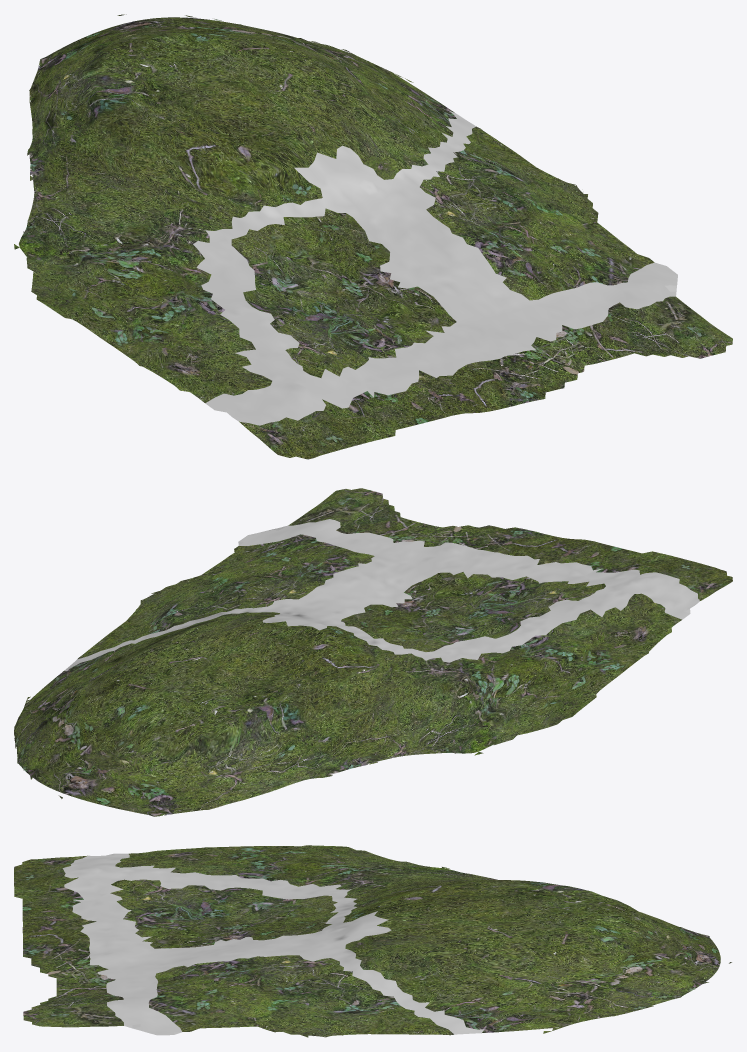
The model's file is Field6.fbx.
The picture shows the model from 3 angles, top to bottom: view 1: azimuth 30°, elevation 25°; view 2: azimuth 150°, elevation 25°; view 3: azimuth 270°, elevation 25°; orthographic projection. The views are drawn at different scales.
Visible parts, largest first — view 1: LV_Campagna_Mountain_SM_HSH; view 2: LV_Campagna_Mountain_SM_HSH; view 3: LV_Campagna_Mountain_SM_HSH.
Part boxes in pixels (<box>): LV_Campagna_Mountain_SM_HSH: <box>14,14,732,459</box>; LV_Campagna_Mountain_SM_HSH: <box>14,488,732,816</box>; LV_Campagna_Mountain_SM_HSH: <box>14,845,731,1037</box>.
Bounding box in the file's own units: 1.13e+10 × 1.33e+09 × 1.81e+10.
